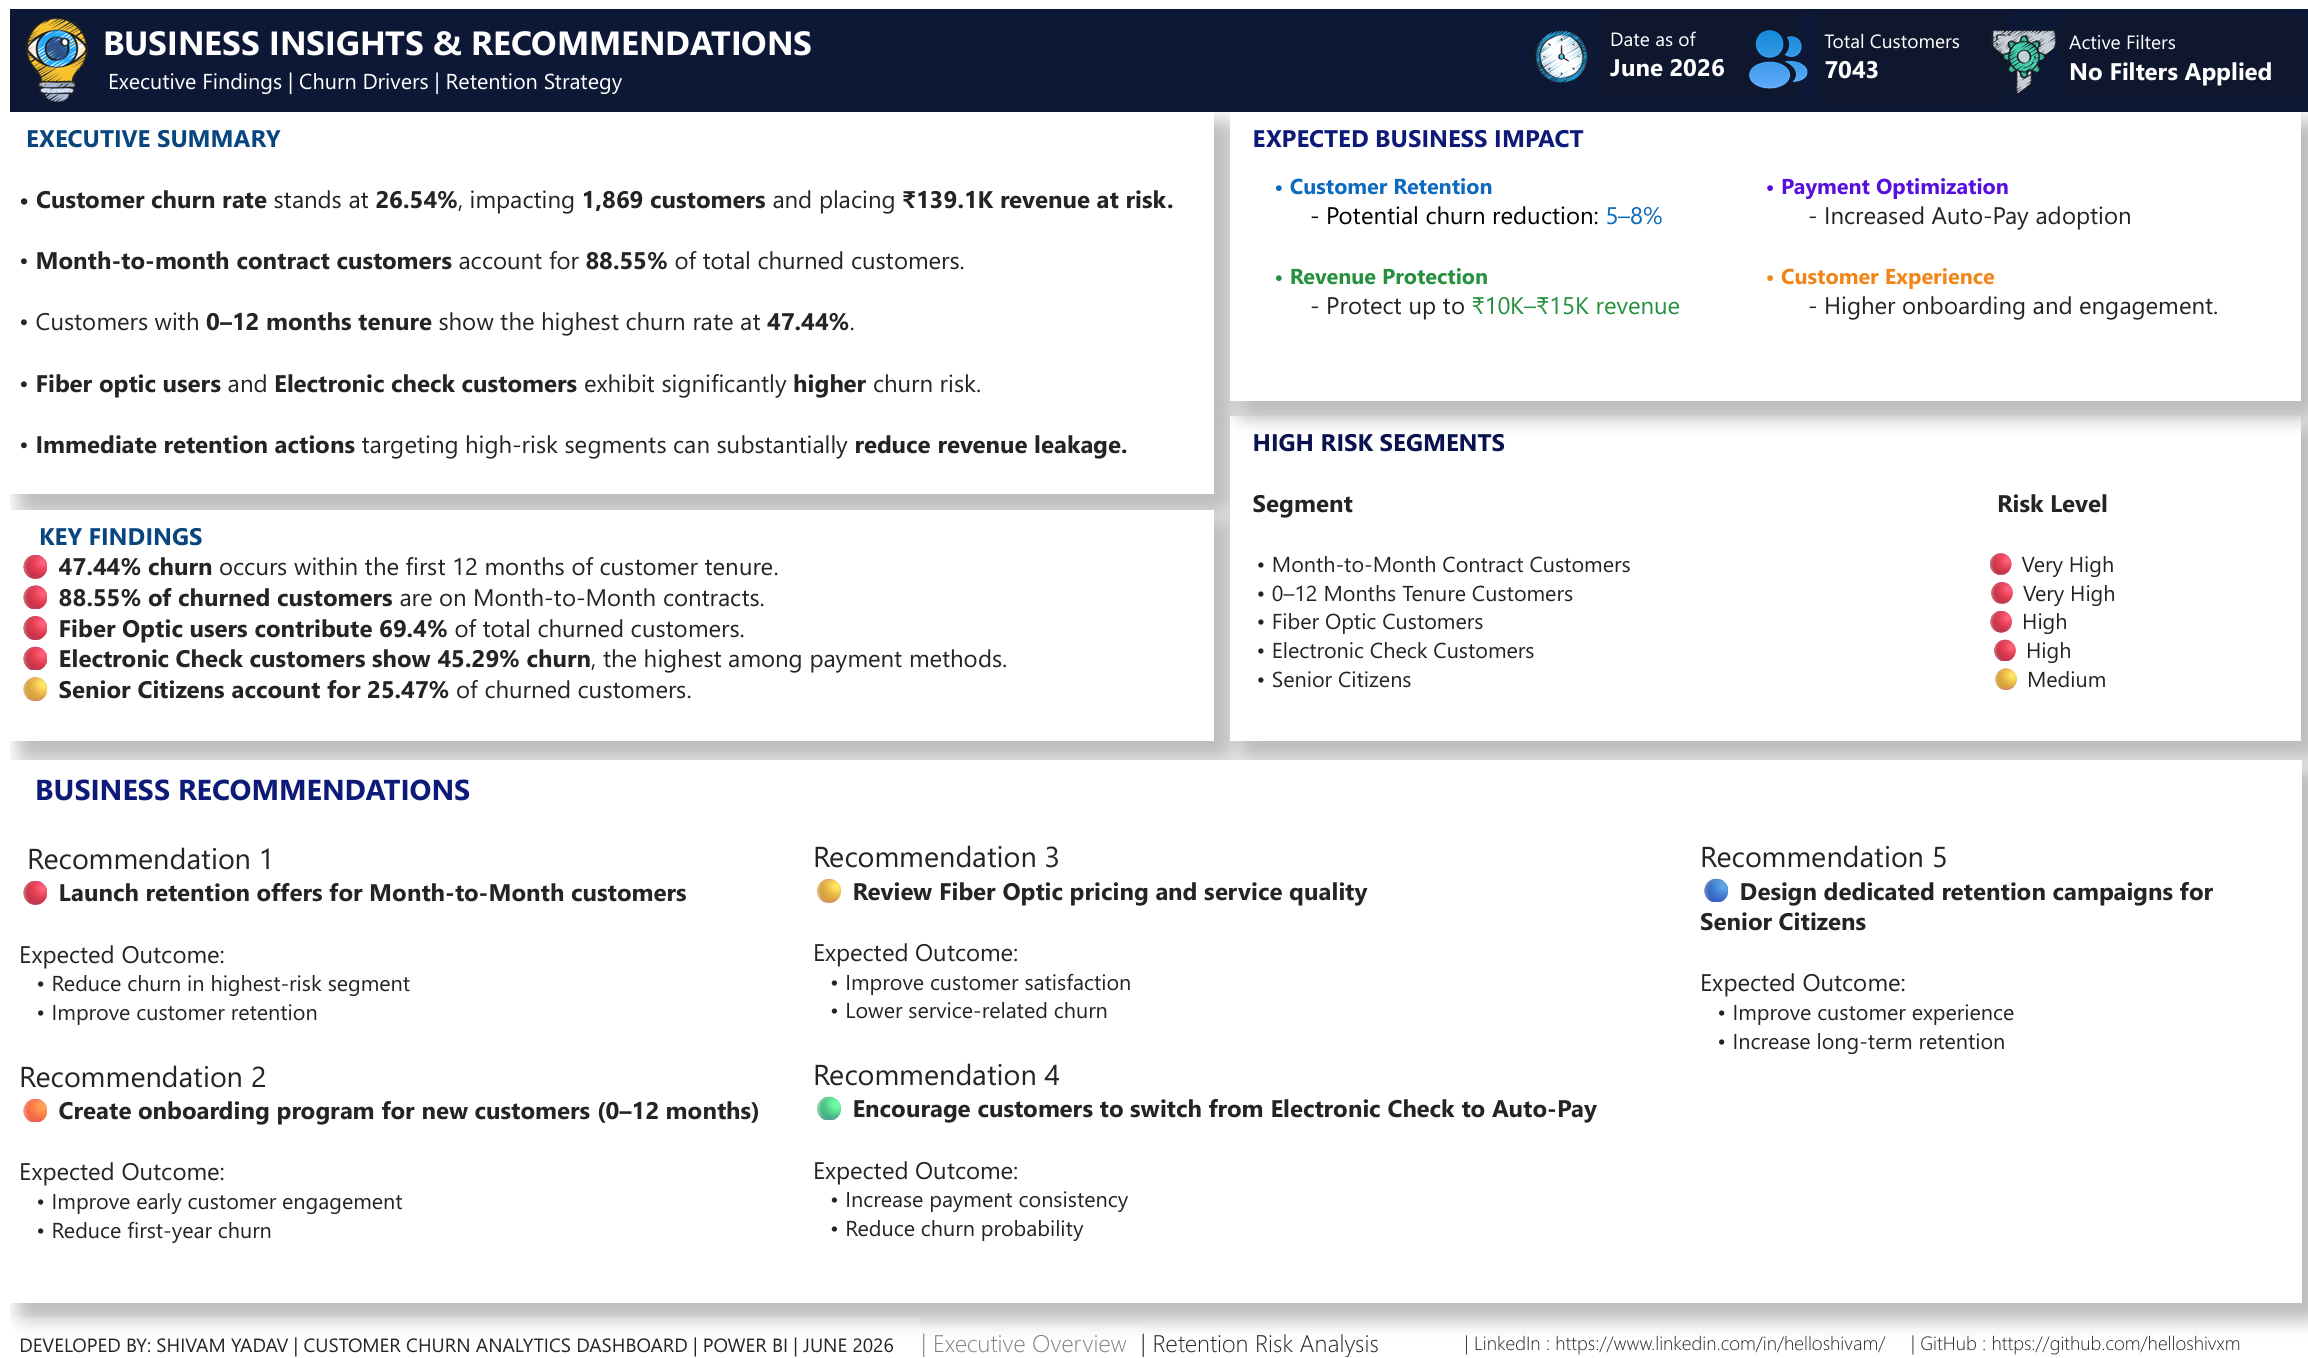

What the dashboard file says about the page in this screenshot:
{"tool":"powerbi","page":{"name":"Business Insights & Recommendations","canvas":[1280,765],"ordinal":1},"visuals":[{"type":"textbox","box":[0,2.3,1279.9,56.4],"z":0},{"type":"shape","box":[1150.8,4.6,109.4,40.3],"z":1000},{"type":"textbox","box":[883.8,2.5,108.8,48.8],"z":2000},{"type":"textbox","box":[1002.5,3.8,108.8,48.8],"z":3000},{"type":"textbox","box":[1139.3,4.6,133.6,46.1],"z":4000},{"type":"textbox","box":[0,58.8,668.8,212.5],"z":5000},{"type":"textbox","box":[0,279.9,669.3,127.9],"z":6000},{"type":"textbox","box":[677.5,227.5,595,180],"z":7000},{"type":"textbox","box":[0,418.8,1272.5,301.2],"z":8000},{"type":"textbox","box":[441.2,456.2,492.5,263.8],"z":9000},{"type":"textbox","box":[933.8,456.2,327.5,245],"z":10000},{"type":"textbox","box":[677.5,58.8,595,160],"z":11000},{"type":"textbox","box":[687.5,86.2,573.8,122.5],"z":12000},{"type":"textbox","box":[961.2,86.2,300,122.5],"z":13000},{"type":"actionButton","title":"| Executive Overview","box":[506.2,732.5,122.5,32.5],"z":14000},{"type":"textbox","box":[0,727.5,506.2,37.5],"z":15000},{"type":"actionButton","title":"| Retention Risk Analysis","box":[627.5,732.5,142.5,32.5],"z":16000},{"type":"image","box":[0,6.2,51.2,47.5],"z":17000},{"type":"image","box":[840,12.5,43.8,30],"z":18000},{"type":"image","box":[961.2,10,41.2,38.8],"z":19000},{"type":"image","box":[1097.5,12.5,42.5,36.2],"z":20000},{"type":"actionButton","title":"| LinkedIn : https://www.linkedin.com/in/helloshivam/","box":[808,734,252,32],"z":20001},{"type":"actionButton","title":"| GitHub : https://github.com/helloshivxm","box":[1056,734,208,28],"z":20002}]}

Visuals, with their boxes in screenshot pixels (x1, y1, x2, y2), scaled from the page's 1280x765 canvas onto the 2308x1358 screenshot:
textbox: (left=0, top=4, right=2307, bottom=104)
shape: (left=2075, top=8, right=2272, bottom=80)
textbox: (left=1594, top=4, right=1790, bottom=91)
textbox: (left=1808, top=7, right=2004, bottom=93)
textbox: (left=2054, top=8, right=2295, bottom=90)
textbox: (left=0, top=104, right=1206, bottom=482)
textbox: (left=0, top=497, right=1207, bottom=724)
textbox: (left=1222, top=404, right=2294, bottom=723)
textbox: (left=0, top=743, right=2294, bottom=1278)
textbox: (left=796, top=810, right=1684, bottom=1278)
textbox: (left=1684, top=810, right=2274, bottom=1245)
textbox: (left=1222, top=104, right=2294, bottom=388)
textbox: (left=1240, top=153, right=2274, bottom=370)
textbox: (left=1733, top=153, right=2274, bottom=370)
"| Executive Overview" actionButton: (left=913, top=1300, right=1134, bottom=1357)
textbox: (left=0, top=1291, right=913, bottom=1357)
"| Retention Risk Analysis" actionButton: (left=1131, top=1300, right=1388, bottom=1357)
image: (left=0, top=11, right=92, bottom=95)
image: (left=1515, top=22, right=1594, bottom=75)
image: (left=1733, top=18, right=1807, bottom=87)
image: (left=1979, top=22, right=2056, bottom=86)
"| LinkedIn : https://www.linkedin.com/in/helloshivam/" actionButton: (left=1457, top=1303, right=1911, bottom=1357)
"| GitHub : https://github.com/helloshivxm" actionButton: (left=1904, top=1303, right=2279, bottom=1353)
